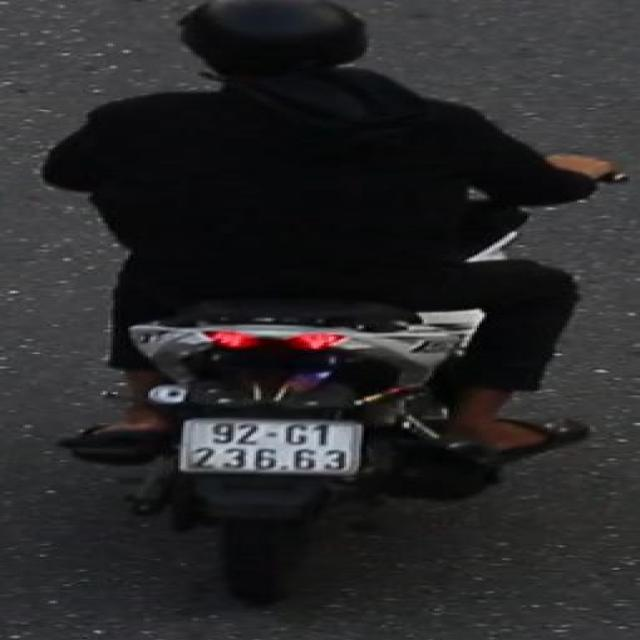LP: (170, 412, 370, 479)
helmet: (174, 0, 376, 91)
